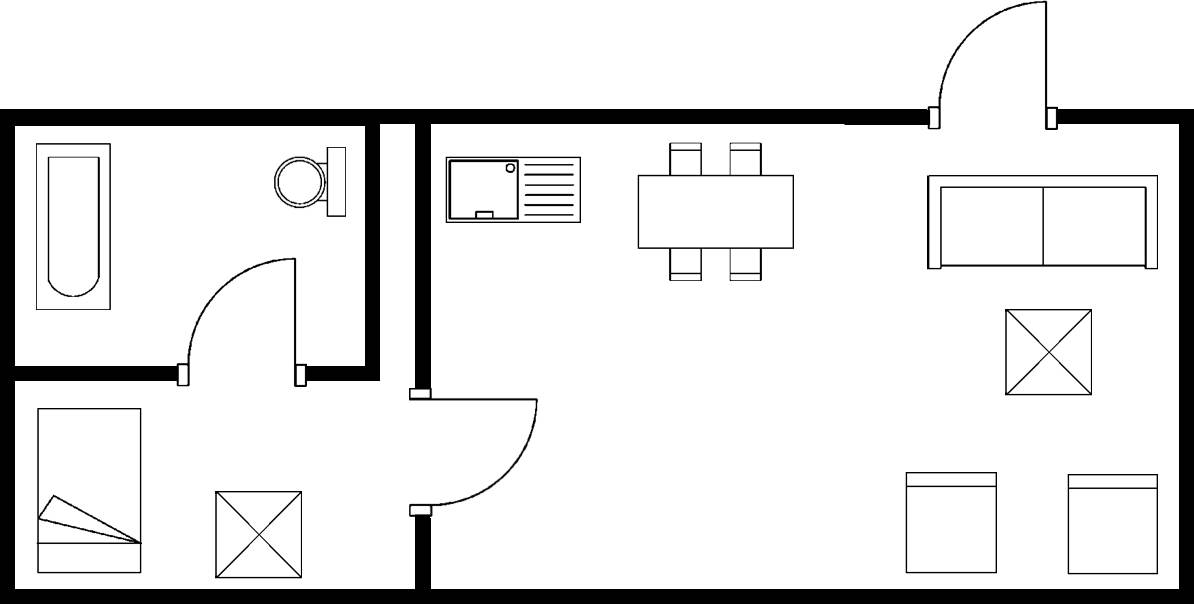bed: (28, 401, 148, 580)
coffee_table: (994, 300, 1100, 401), (206, 485, 313, 585)
dining_table: (628, 134, 803, 291)
large_sink: (267, 140, 355, 228)
large_sofa: (918, 167, 1164, 275)
sink: (440, 150, 590, 228)
small_sofa: (899, 462, 1004, 579), (1059, 467, 1164, 582)
tub: (31, 136, 116, 315)
